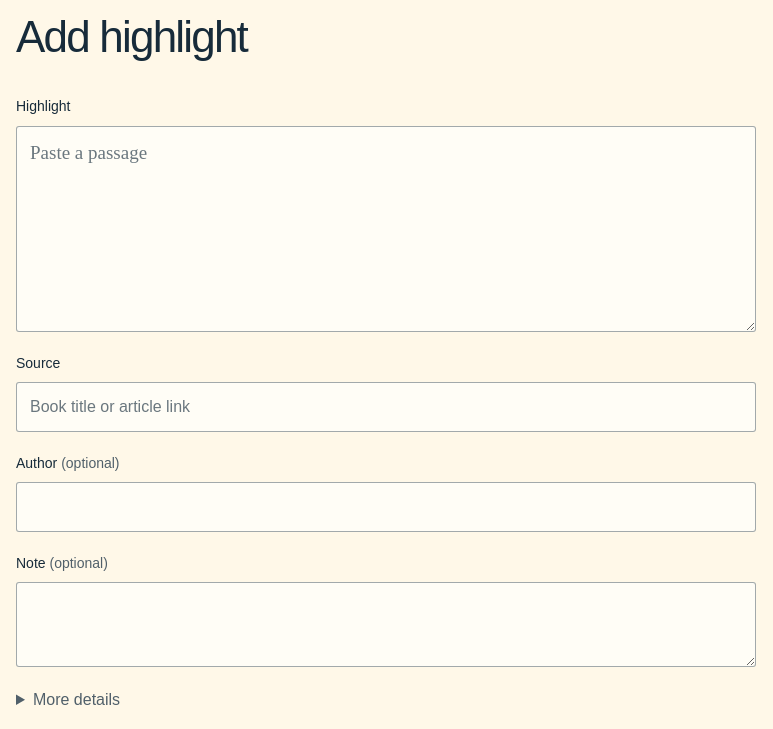
Test case: ignores an old lookup after the user changes the source
Type "https://example.com/old" into the field labelled "Source" at coordinates (386, 407), box [16,382,756,432]
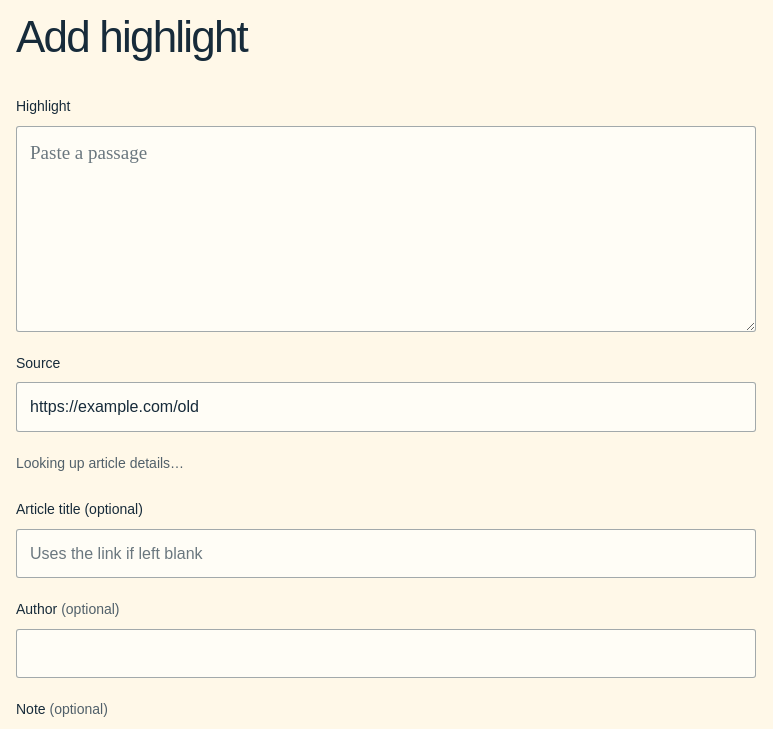
Replace the text in the field labelled "Source" with "https://example.com/new" at coordinates (386, 407), box [16,382,756,432]
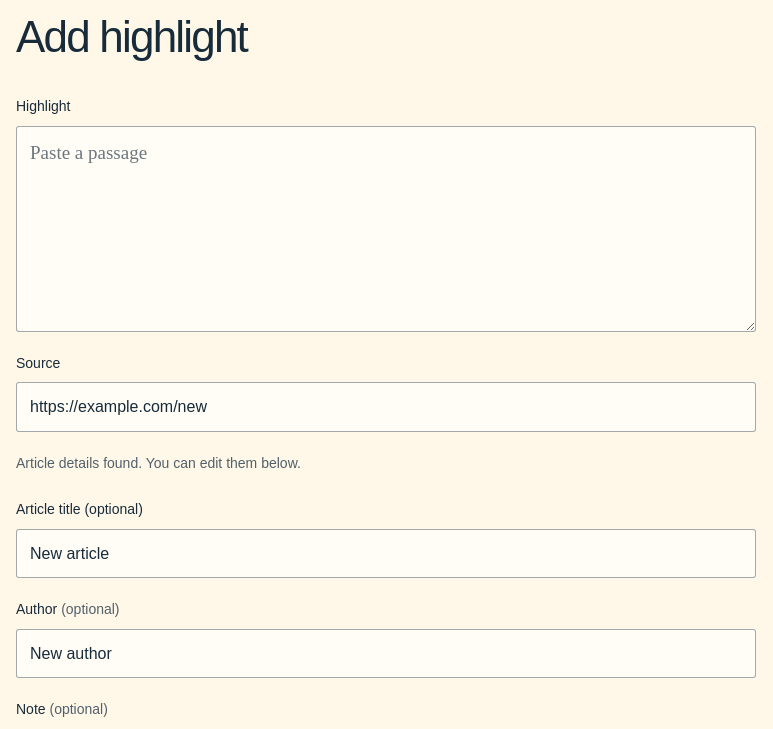
Expected: the field labelled "Article title (optional)" holds "New article", [16,529,756,578]
Expected: the field labelled "Author (optional)" holds "New author", [16,629,756,678]
